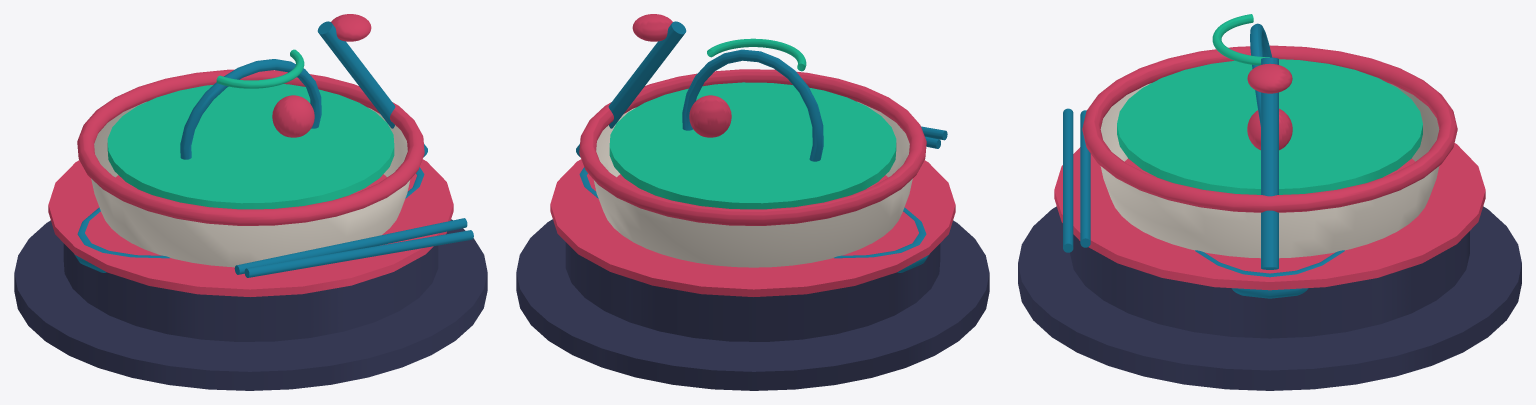
Rendered from 0317_揭秘食物图鉴_水稻.glb.
3 renders of one model, left to right at view 1: azimuth 30°, elevation 25°; view 2: azimuth 150°, elevation 25°; view 3: azimuth 270°, elevation 25°, orthographic. The views are drawn at different scales.
Visible parts, largest first — view 1: card_0317; view 2: card_0317; view 3: card_0317.
Part boxes in pixels (box(x1,y1,x2,y2)): card_0317: box(14, 14, 487, 390); card_0317: box(516, 14, 989, 390); card_0317: box(1018, 14, 1521, 390).
Bounding box in the file's own units: 1.69 × 1 × 1.67.
